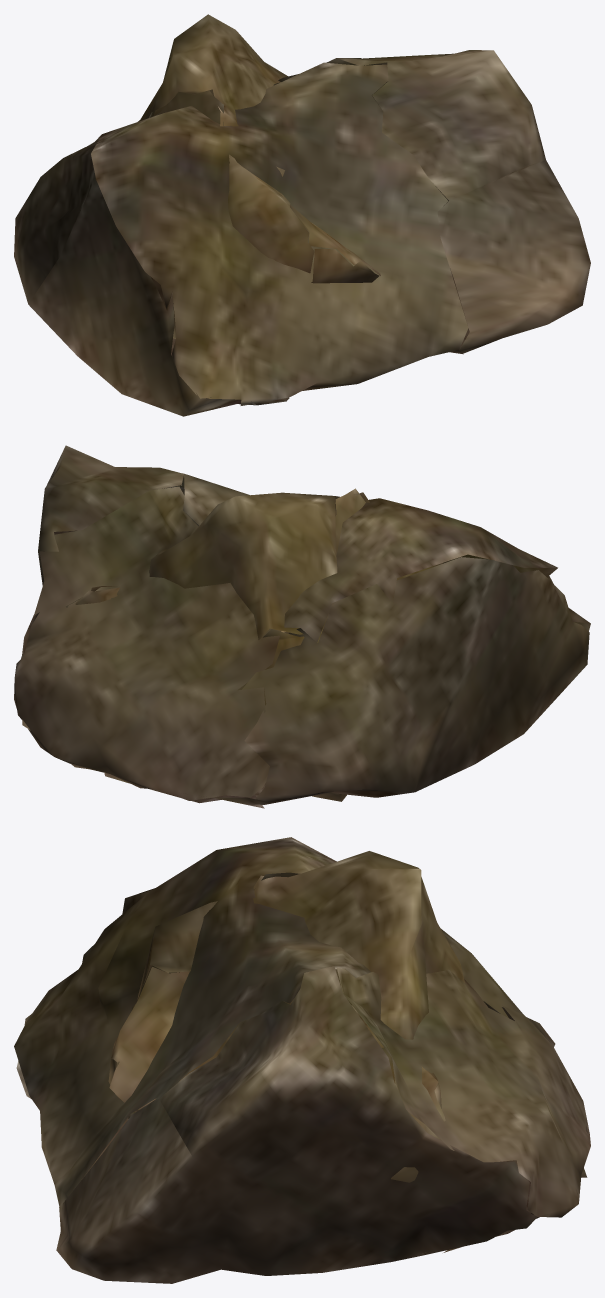
File: rock_moss_set_01.glb
3 renders of one model, top to bottom at view 1: azimuth 30°, elevation 25°; view 2: azimuth 150°, elevation 25°; view 3: azimuth 270°, elevation 25°, orthographic. The views are drawn at different scales.
Parts seen in each view (by area): view 1: v2, v3; view 2: v2, v3; view 3: v2, v3.
Part boxes in pixels (left/top/right/bottom): v2: left=14, top=50, right=590, bottom=416; v3: left=95, top=14, right=380, bottom=338; v2: left=14, top=445, right=590, bottom=808; v3: left=66, top=488, right=442, bottom=801; v2: left=14, top=837, right=590, bottom=1283; v3: left=108, top=851, right=464, bottom=1182.
Bounding box in the file's own units: 1.67 × 1 × 1.64.
Materials: 1 (1 with a texture image).
